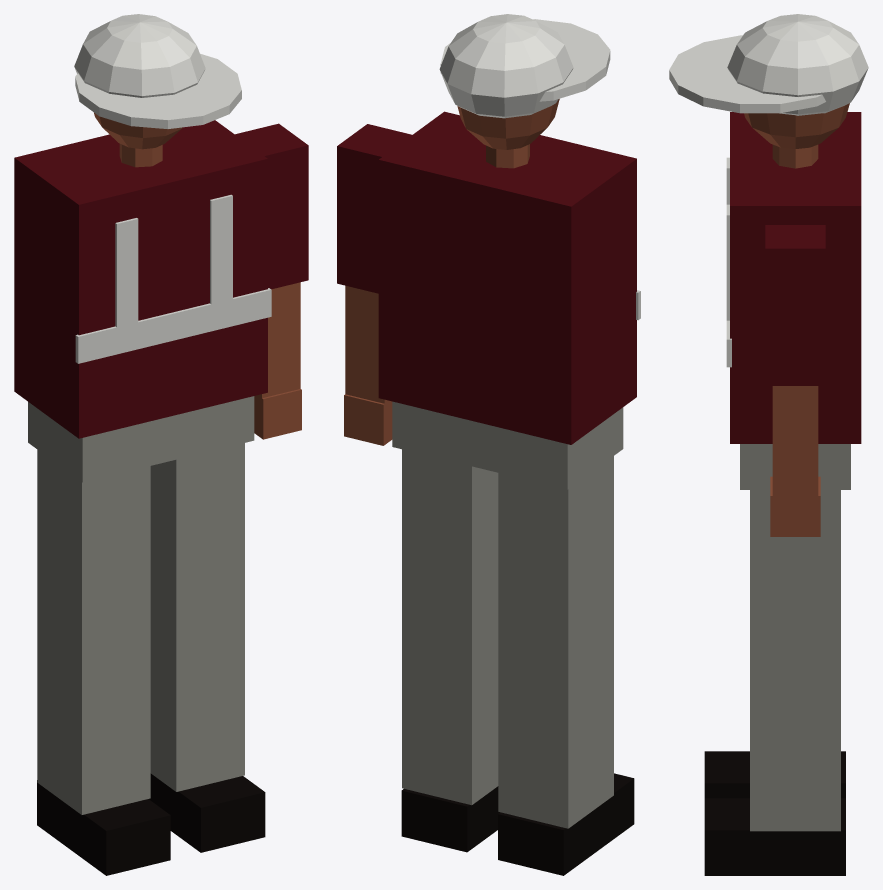
The model's file is obrero_ipn_cuerpo.obj.
3 views of the same model, side by side, from view 1: azimuth 30°, elevation 25°; view 2: azimuth 150°, elevation 25°; view 3: azimuth 270°, elevation 25° (orthographic).
Visible parts, largest first — view 1: obrero_ipn_cuerpo.001; view 2: obrero_ipn_cuerpo.001; view 3: obrero_ipn_cuerpo.001.
Part boxes in pixels (bbox=[...]): obrero_ipn_cuerpo.001: bbox=[14, 14, 308, 875]; obrero_ipn_cuerpo.001: bbox=[337, 14, 640, 875]; obrero_ipn_cuerpo.001: bbox=[669, 14, 868, 875].
Size of the model in its own units: 0.58 by 1.78 by 0.395.
